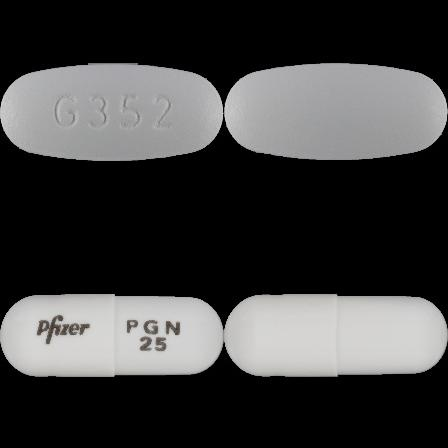54868-5660: (0, 0, 224, 224)
